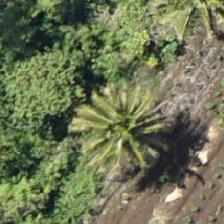coconut_tree: (64, 93, 154, 183)
